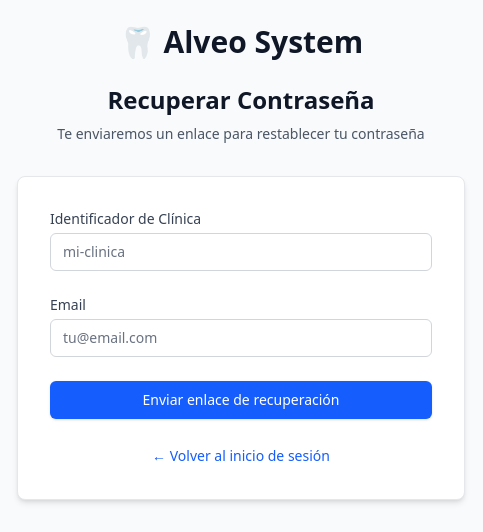
Test: ForgotPasswordPage › form submission › should show success state after successful submission
Type "my-clinic" into the field labelled "Identificador de Clínica" at (241, 252), box x1=50 y1=233 x2=432 y2=271
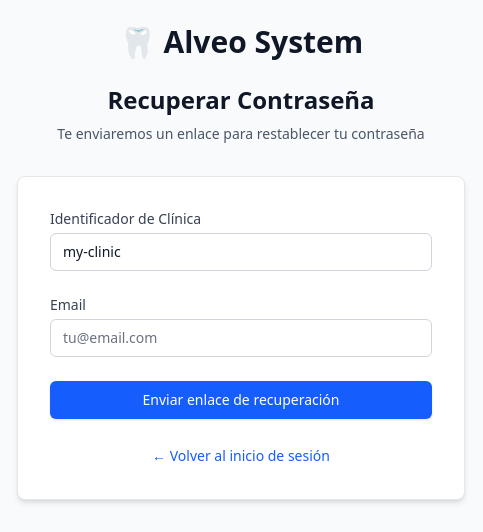
Type "test@example.com" into the field labelled "Email" at (241, 338), box x1=50 y1=319 x2=432 y2=357
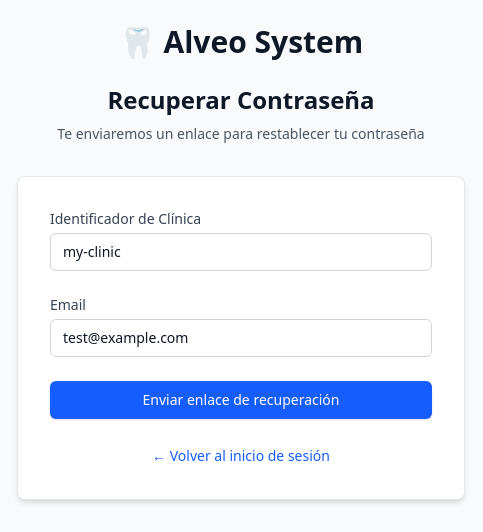
Click the button "Enviar enlace de recuperación" at (241, 400), box x1=50 y1=381 x2=432 y2=419
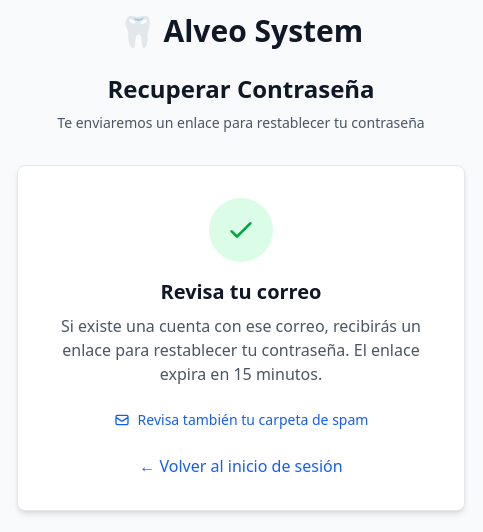
Check: the heading "Revisa tu correo" is shown, box x1=160 y1=278 x2=322 y2=305
Check: the text "el enlace expira en 15 minutos" is shown, box x1=61 y1=315 x2=421 y2=385
